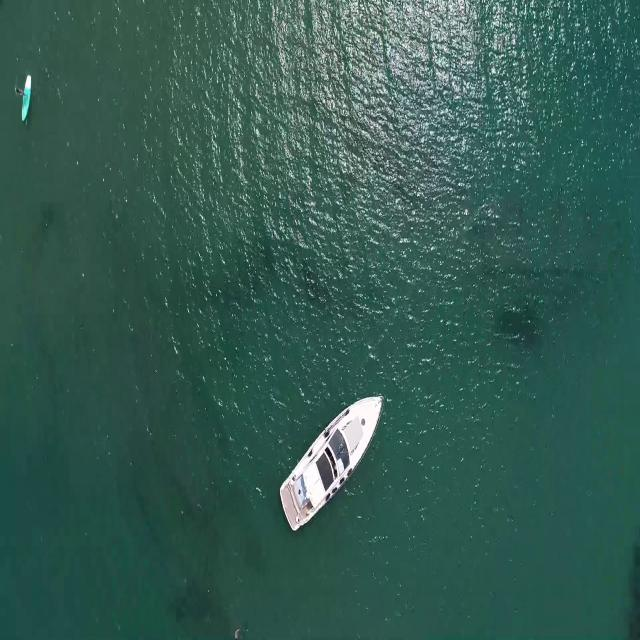boat: (270, 394, 384, 530)
person: (17, 82, 30, 100)
surfboard: (22, 73, 34, 120)
